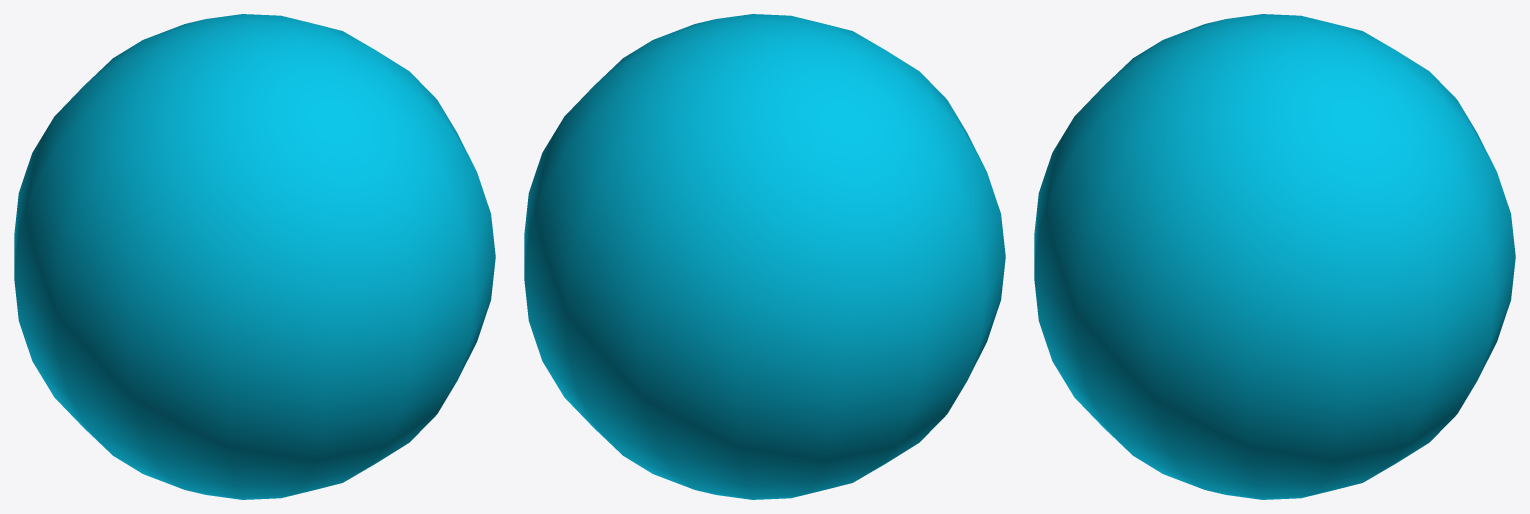
File: Ball Cristal.fbx
3 views of the same model, side by side, from view 1: azimuth 30°, elevation 25°; view 2: azimuth 150°, elevation 25°; view 3: azimuth 270°, elevation 25° (orthographic).
Parts seen in each view (by area): view 1: Core; view 2: Core; view 3: Core.
Boxes of the visible parts, box(x1,y1,x2,y2) form: Core: box(14, 14, 495, 499); Core: box(524, 14, 1005, 499); Core: box(1034, 14, 1515, 499).
Size of the model in its own units: 93.2 by 93.71 by 92.69.
